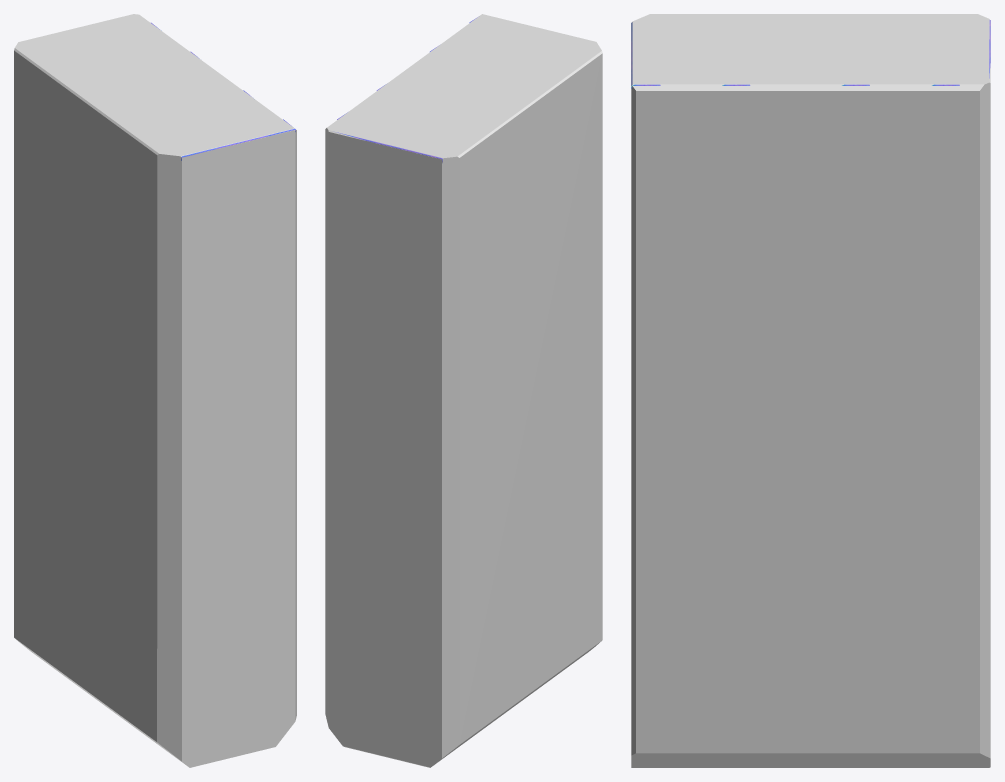
The model's file is SM_wall_mid_01.fbx.
3 renders of one model, left to right at view 1: azimuth 30°, elevation 25°; view 2: azimuth 150°, elevation 25°; view 3: azimuth 270°, elevation 25°, orthographic. The views are drawn at different scales.
Parts seen in each view (by area): view 1: SM_wall_mid_01_ConvexHulls; view 2: SM_wall_mid_01_ConvexHulls; view 3: SM_wall_mid_01_ConvexHulls.
Part boxes in pixels (<box>): SM_wall_mid_01_ConvexHulls: <box>14,14,296,767</box>; SM_wall_mid_01_ConvexHulls: <box>325,14,602,767</box>; SM_wall_mid_01_ConvexHulls: <box>631,14,990,767</box>.
Size of the model in its own units: 242 by 502 by 1070.
